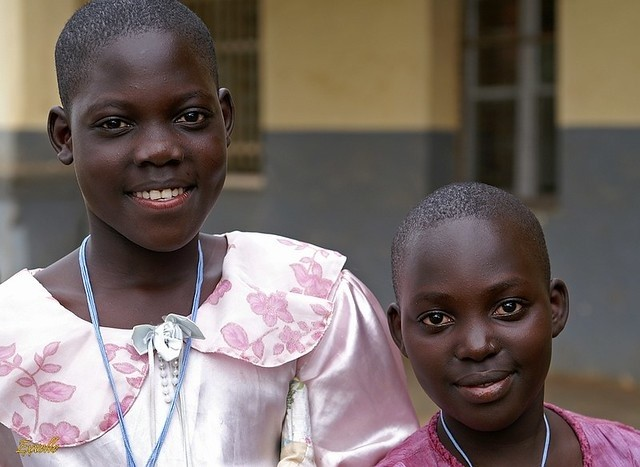face_no_mask: (49, 5, 236, 261), (388, 183, 570, 440)
